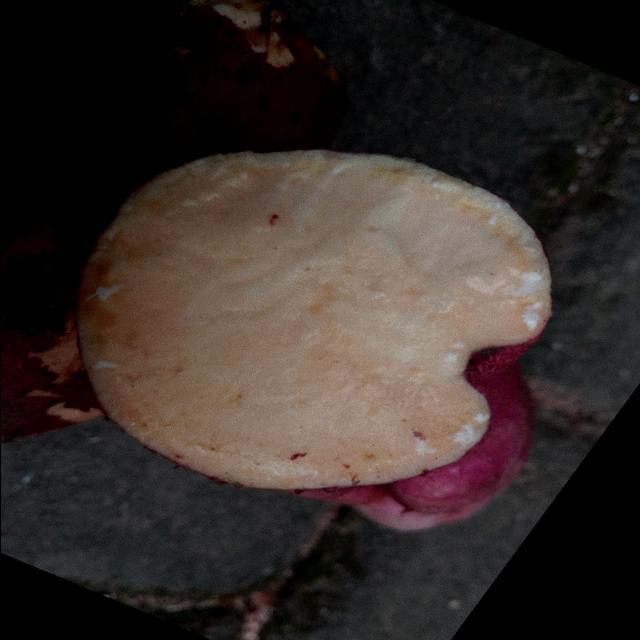Healthy Sweet Potato: (77, 150, 550, 490)
